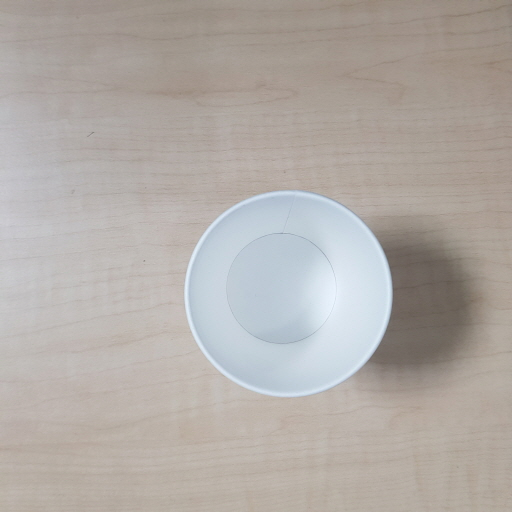Paper_1: (186, 186, 393, 400)
